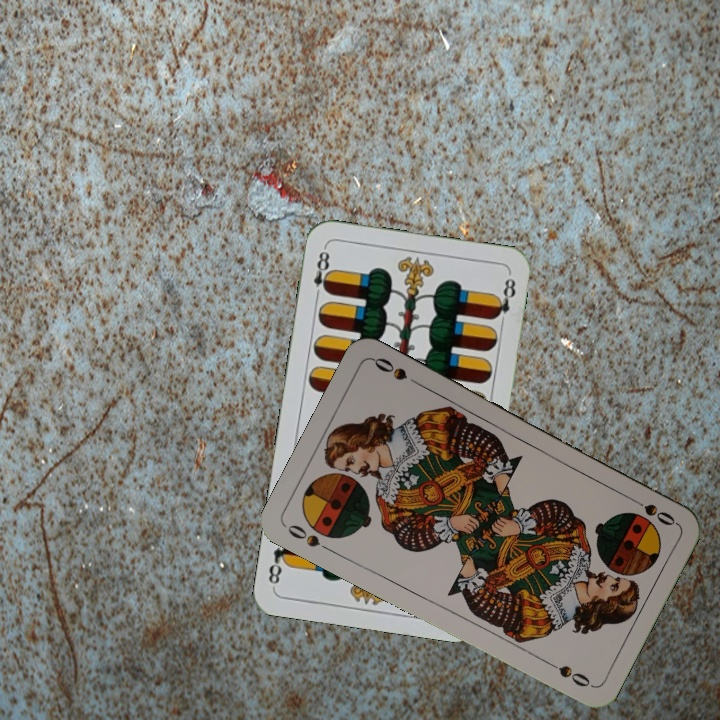E8: (309, 244, 335, 302)
SO: (624, 492, 678, 529), (283, 520, 336, 556)
